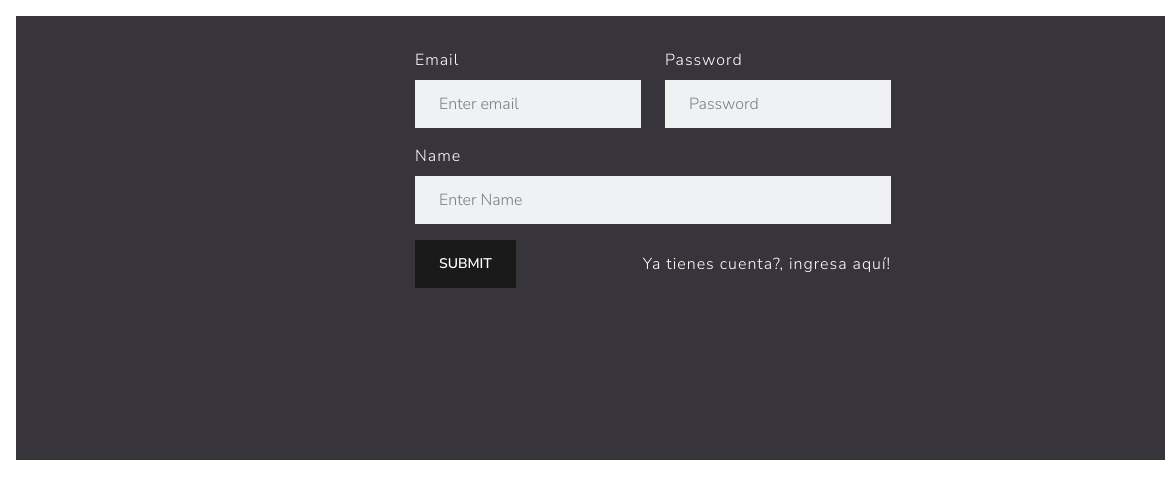
Test case: Register Component › displays error message on unsuccessful registration
The width and height of the screenshot is (1165, 477).
In the field labelled "Email": (528, 104) [415,80,641,128], type "test@example.com"
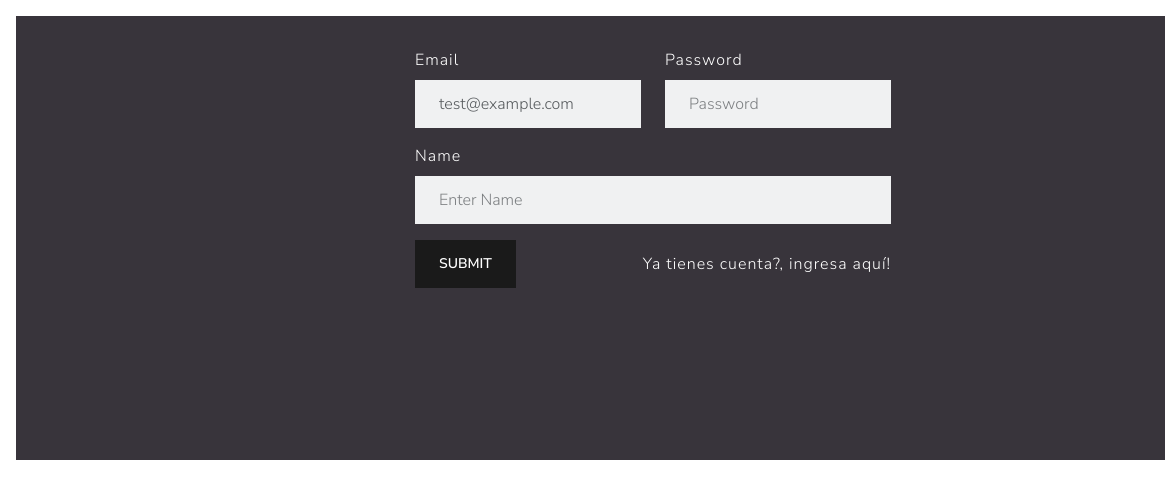
In the password field labelled "Password": (778, 104) [665,80,891,128], type "password123"
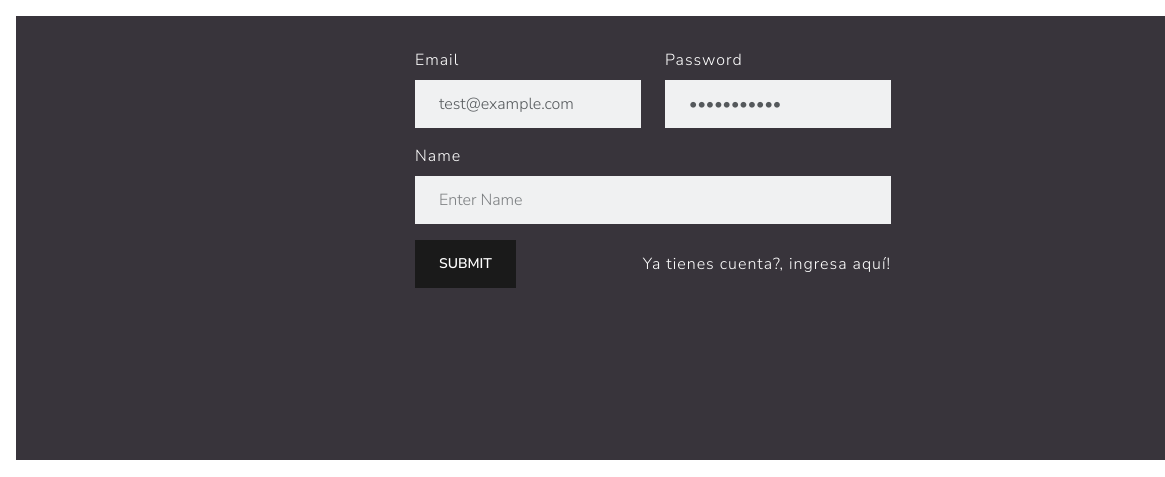
In the field labelled "Name": (653, 200) [415,176,891,224], type "John Doe"
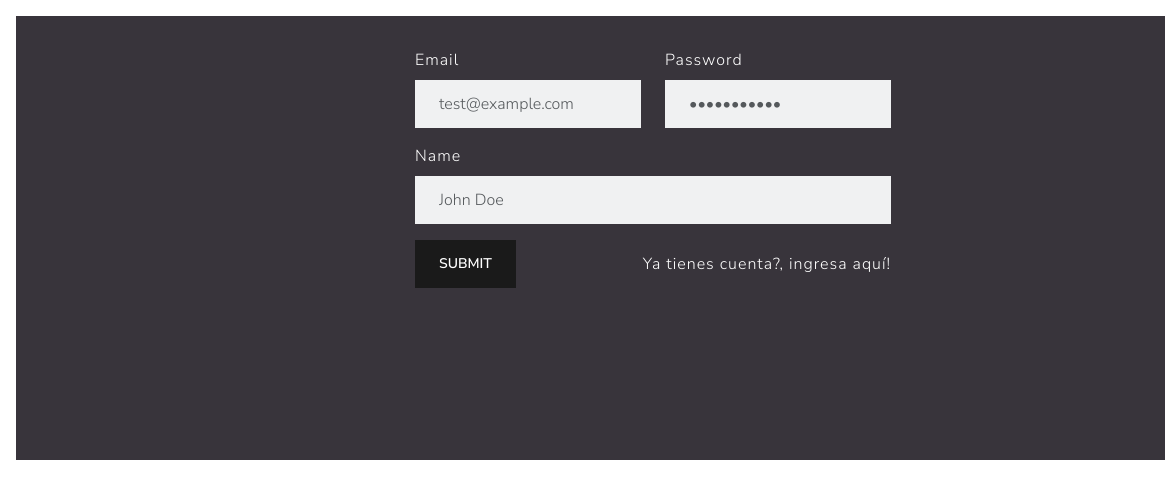
Click the button "Submit": (465, 264) [415,240,516,288]
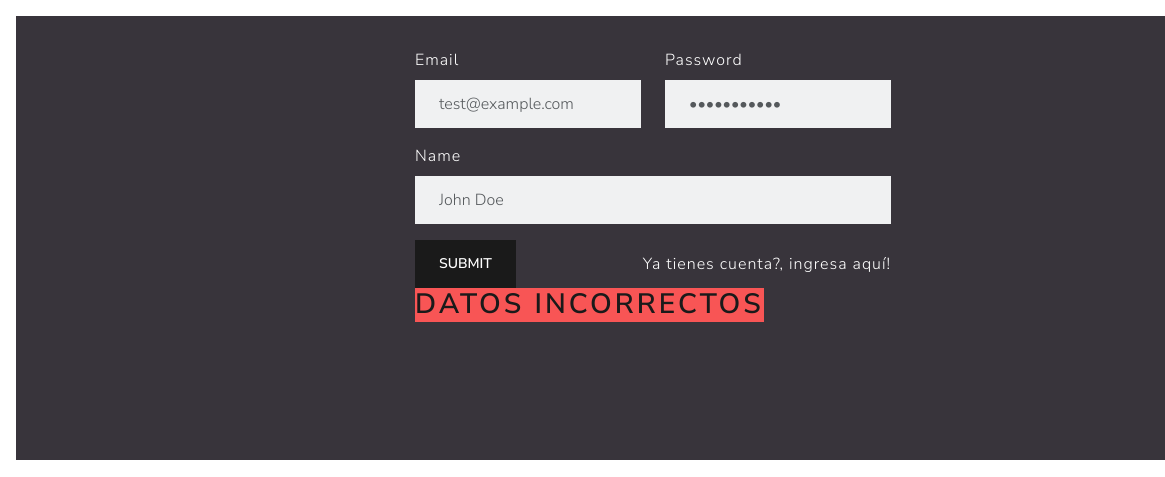
Expected: the heading "Datos Incorrectos" is shown, [415,288,764,322]
